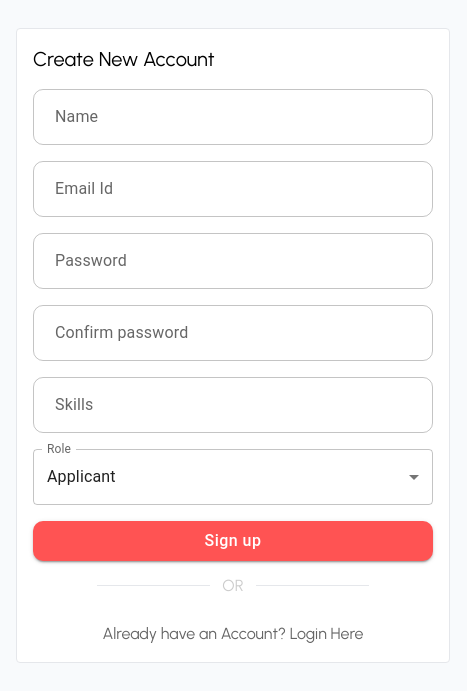
RegistrationPage › shows error when skills are empty
The width and height of the screenshot is (467, 691).
Type "Test User" into the field labelled "Name".
click(233, 116); type("Test User")  # box [33,88,433,144]
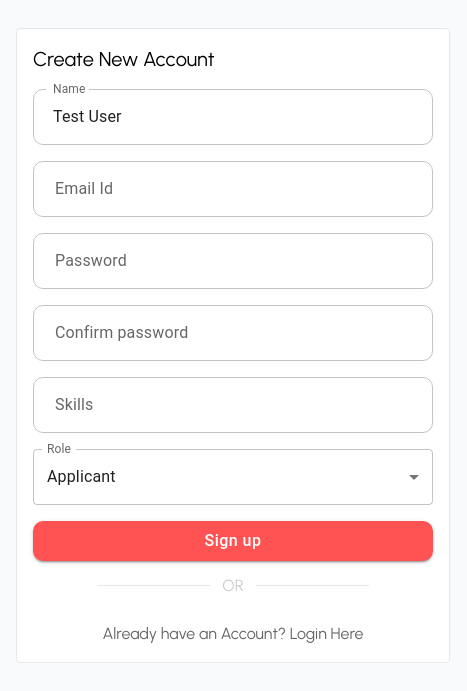
Type "test@example.com" into the field labelled "Email Id".
click(233, 188); type("test@example.com")  # box [33,160,433,216]
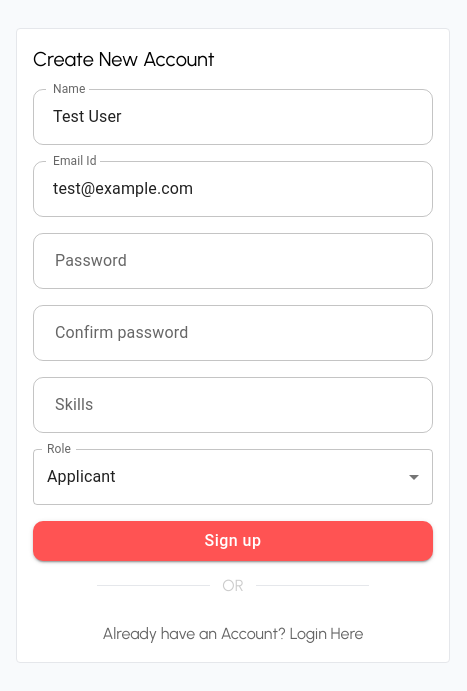
Type "password123" into the password field labelled "Password".
click(233, 260); type("password123")  # box [33,232,433,288]
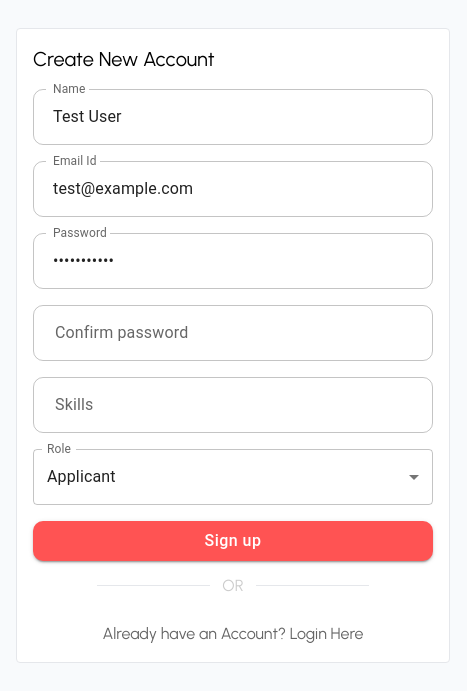
Type "password123" into the password field labelled "Confirm password".
click(233, 332); type("password123")  # box [33,304,433,360]
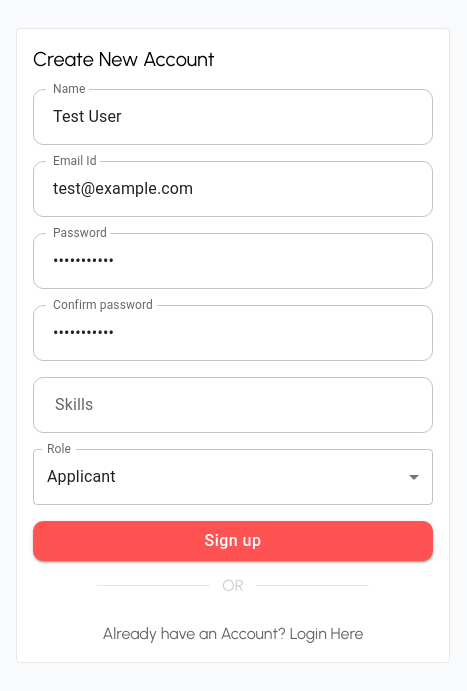
Click the button "Sign up".
click(233, 540)  # box [33,520,433,560]
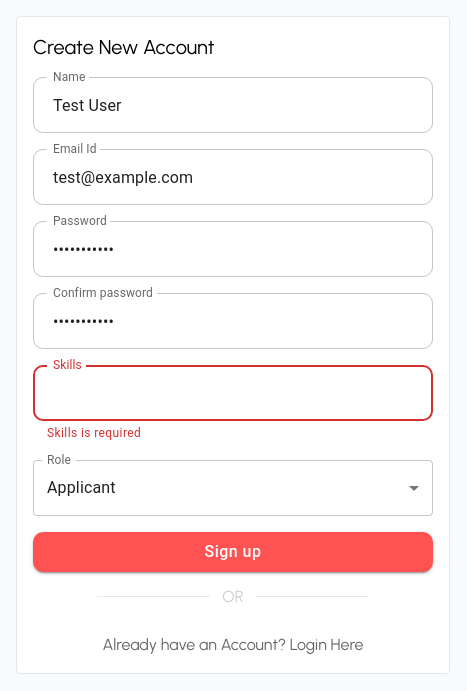
Check: the text "Skills is required" is shown, box [47,426,141,440]
